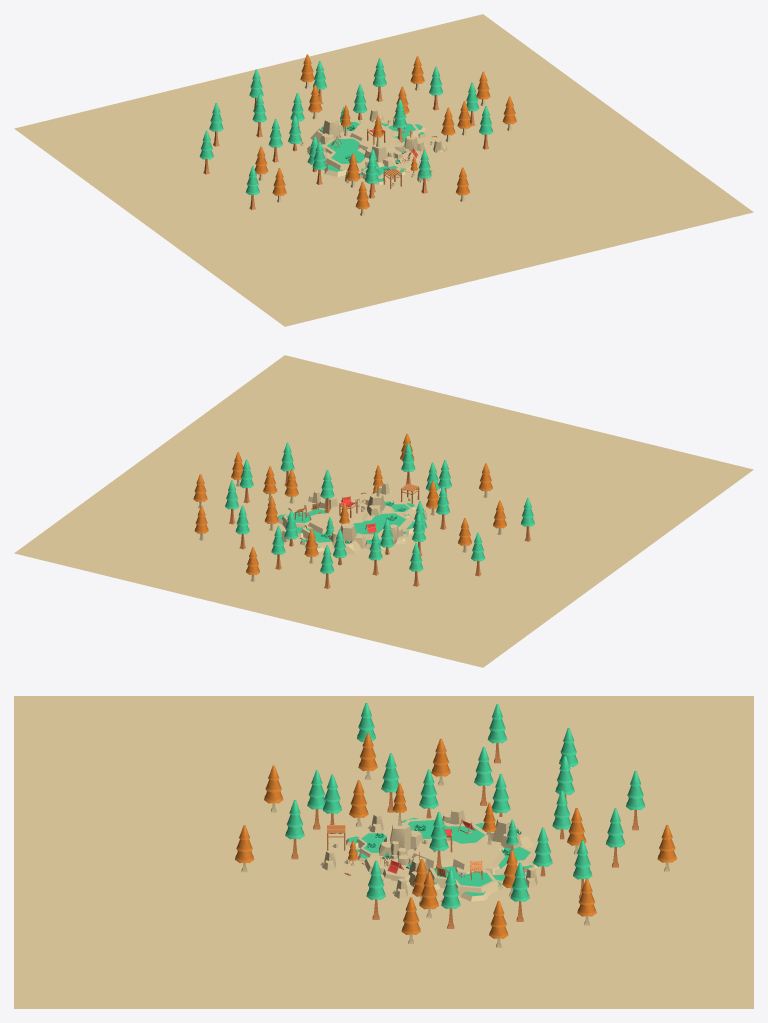
3 views of the same model, one above another, from view 1: azimuth 30°, elevation 25°; view 2: azimuth 150°, elevation 25°; view 3: azimuth 270°, elevation 25° (orthographic). The views are drawn at different scales.
Parts seen in each view (by area): view 1: Plane, rockFlatGrass.001, rockFlat; view 2: Plane, rockFlatGrass.001, rockFlat, rockB.002; view 3: Plane, rockFlat, rockFlatGrass.002, rockFlatGrass.001, rockB, rockFlatGrass, rockFlatGrass.003, rockB.002, rockFlat.001, treeLarge.005, treeLarge.008, treeLarge.012 (+13 smaller).
Boxes of the visible parts, x1,y1,x2,y2 form: Plane: (14, 14, 753, 326); rockFlatGrass.001: (307, 137, 367, 176); rockFlat: (339, 123, 401, 153); Plane: (14, 355, 753, 667); rockFlatGrass.001: (351, 511, 414, 549); rockFlat: (304, 505, 371, 533); rockB.002: (330, 523, 366, 554); Plane: (14, 696, 753, 1008); rockFlat: (408, 838, 505, 874); rockFlatGrass.002: (428, 866, 502, 901); rockFlatGrass.001: (401, 818, 491, 843); rockB: (379, 822, 423, 856); rockFlatGrass: (346, 832, 388, 861); rockFlatGrass.003: (482, 845, 539, 885); rockB.002: (486, 816, 533, 848); rockFlat.001: (361, 855, 410, 881); treeLarge.005: (285, 800, 304, 859); treeLarge.008: (441, 869, 460, 928); treeLarge.012: (626, 771, 645, 830).
Bounding box in the file's own units: 19.97 × 2.35 × 19.97.
